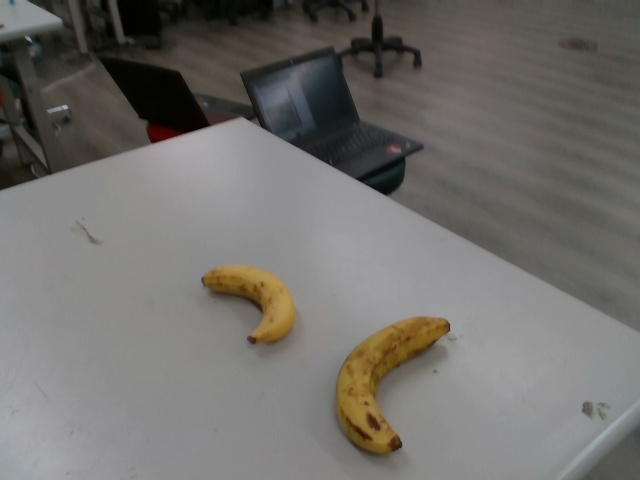banana: (329, 314, 449, 456), (198, 262, 297, 346)
